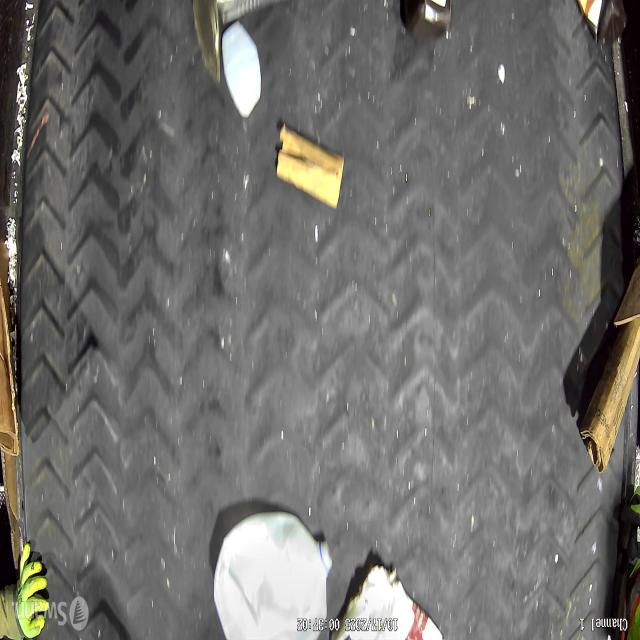milk_jug: (211, 510, 332, 638)
non_white_jug: (576, 0, 626, 47)
